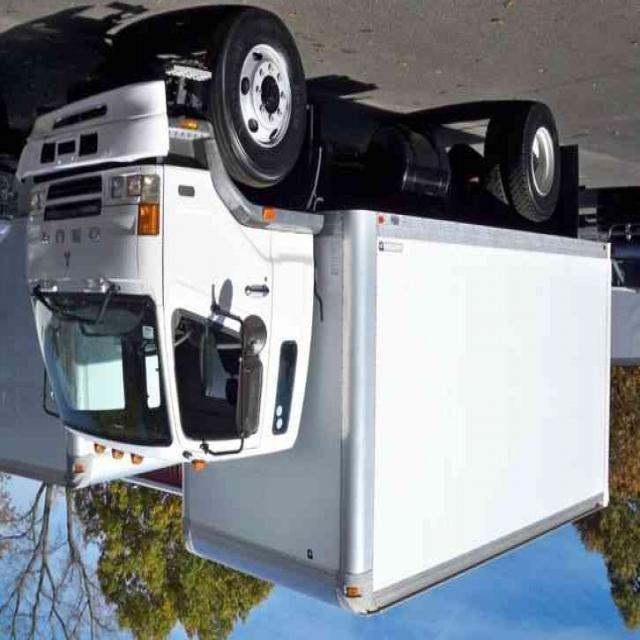truck: (16, 15, 610, 616)
